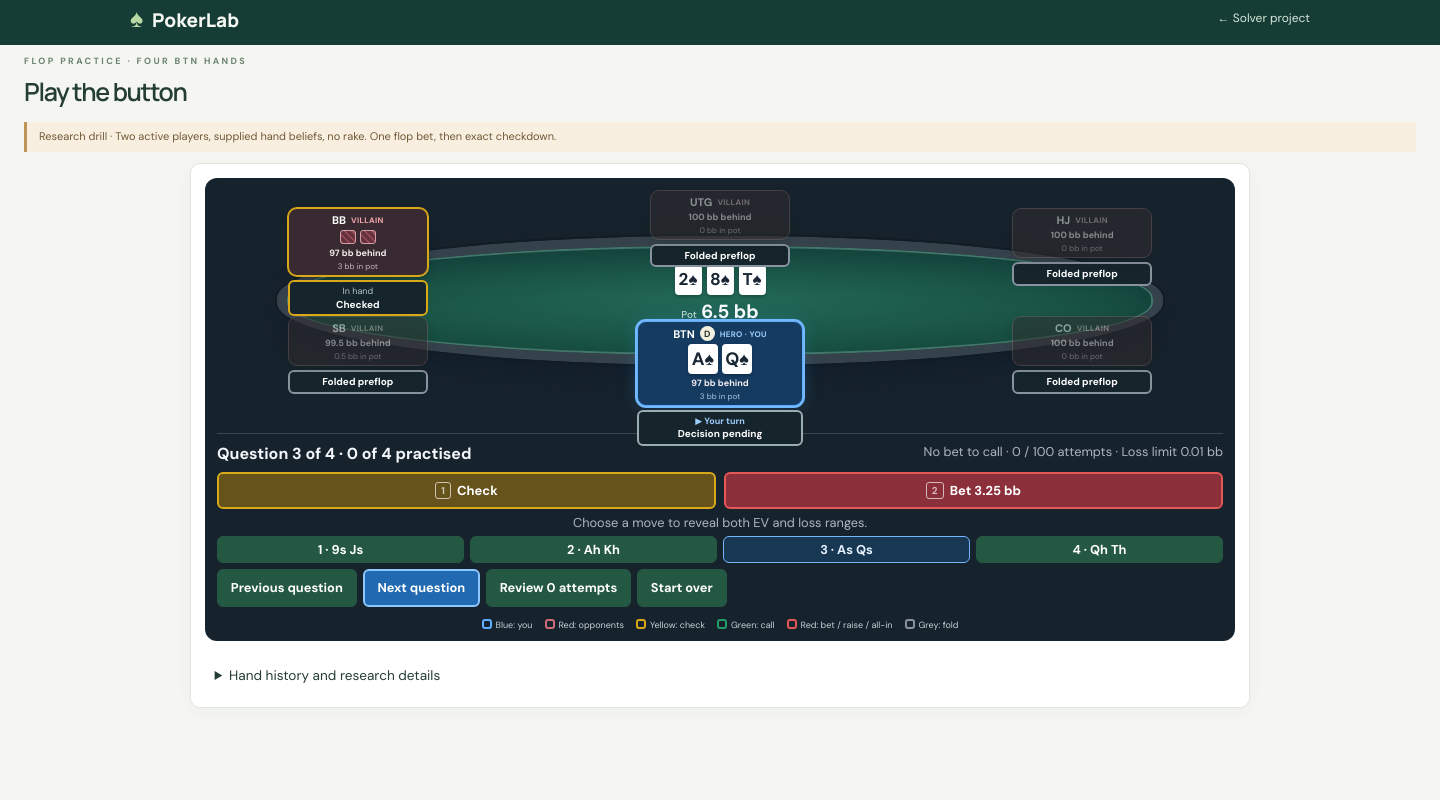
Test case: supports a direct hand link and an empty review
Expected: the button "1 Check" is shown, x1=217 y1=472 x2=716 y2=509
Expected: the element named "Your cards" reads "A♠ Q♠", x1=688 y1=344 x2=752 y2=374
Click the button "Review 0 attempts" at (558, 588), box x1=486 y1=569 x2=631 y2=607
(page scrolled)
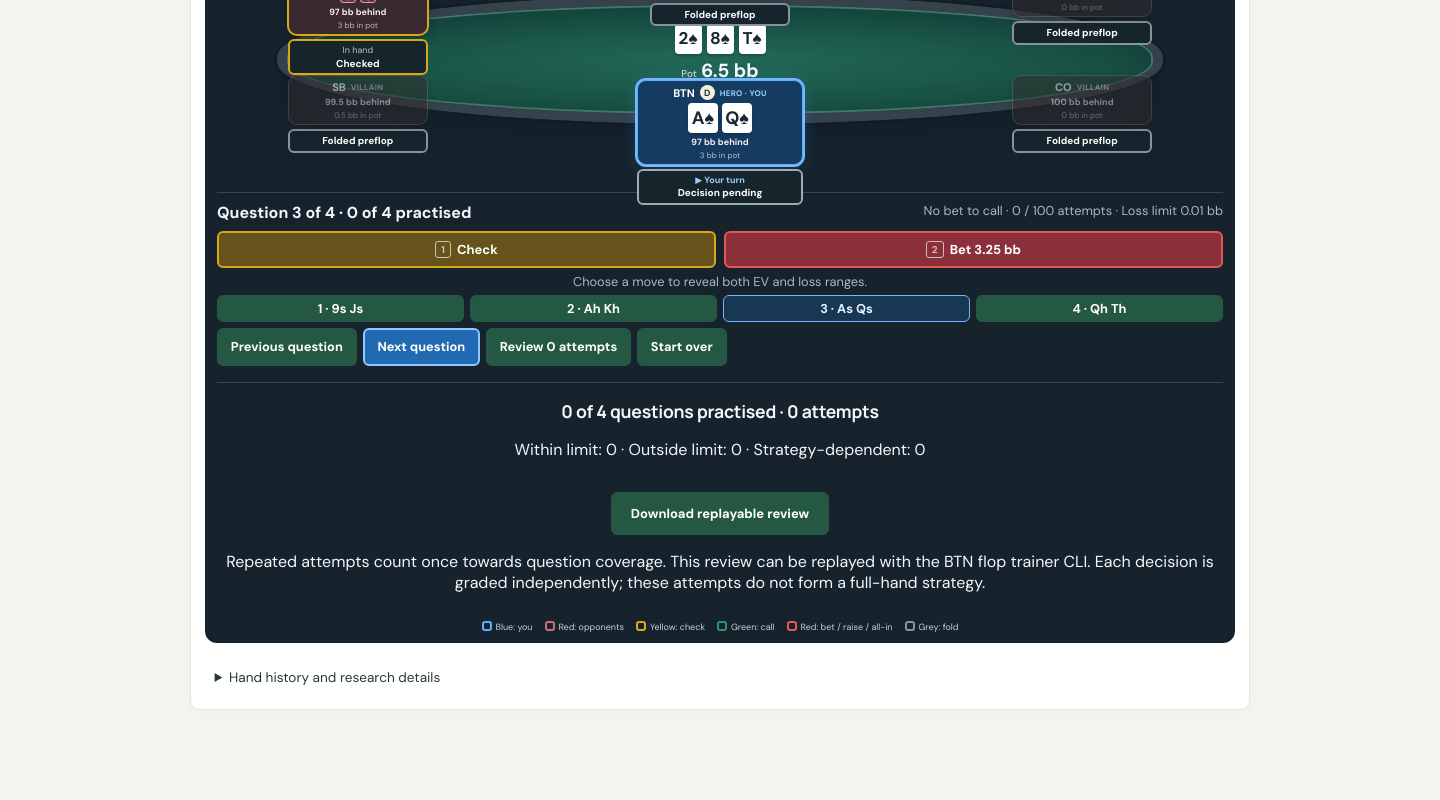
Result: the element named "BTN practice review" shows "0 of 4 questions practised · 0 attempts" at x1=217 y1=382 x2=1223 y2=593
